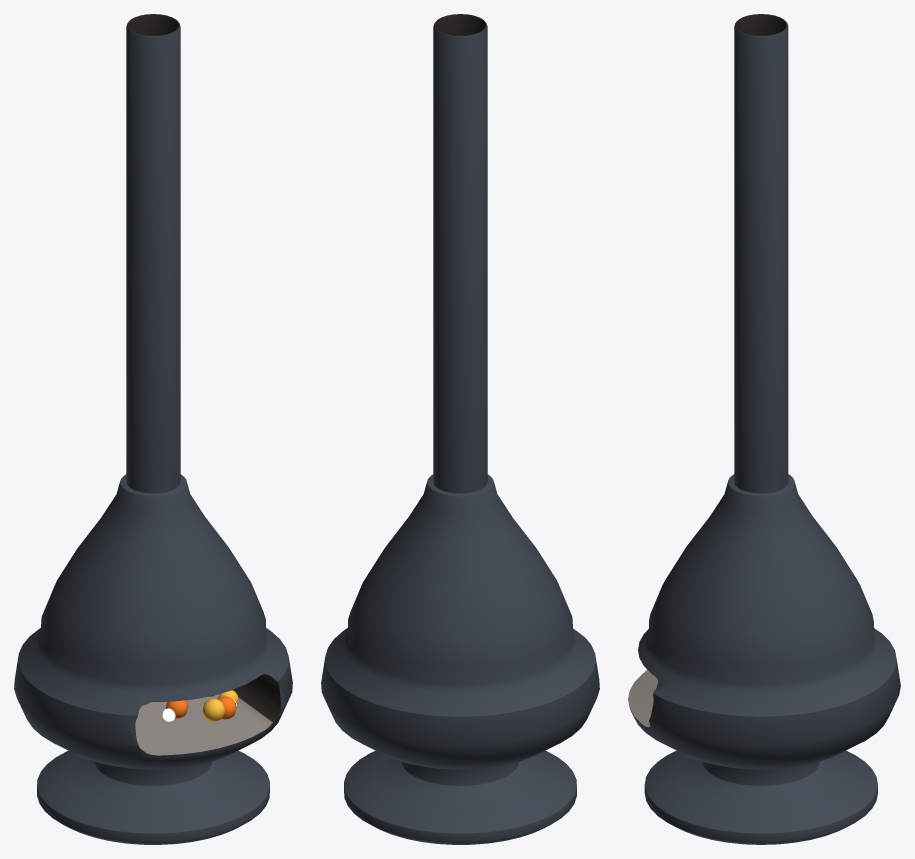
File: lareira_fogareiro_conico.glb
3 views of the same model, side by side, from view 1: azimuth 30°, elevation 25°; view 2: azimuth 150°, elevation 25°; view 3: azimuth 270°, elevation 25° (orthographic).
Visible parts, largest first — view 1: lareira_fogareiro_conico; view 2: lareira_fogareiro_conico; view 3: lareira_fogareiro_conico.
Part boxes in pixels (left/top/right/bottom): lareira_fogareiro_conico: left=14, top=14, right=292, bottom=844; lareira_fogareiro_conico: left=321, top=14, right=599, bottom=844; lareira_fogareiro_conico: left=628, top=14, right=900, bottom=844.
Bounding box in the file's own units: 0.67 × 2.05 × 0.6549.
2 materials, 1 textured.
